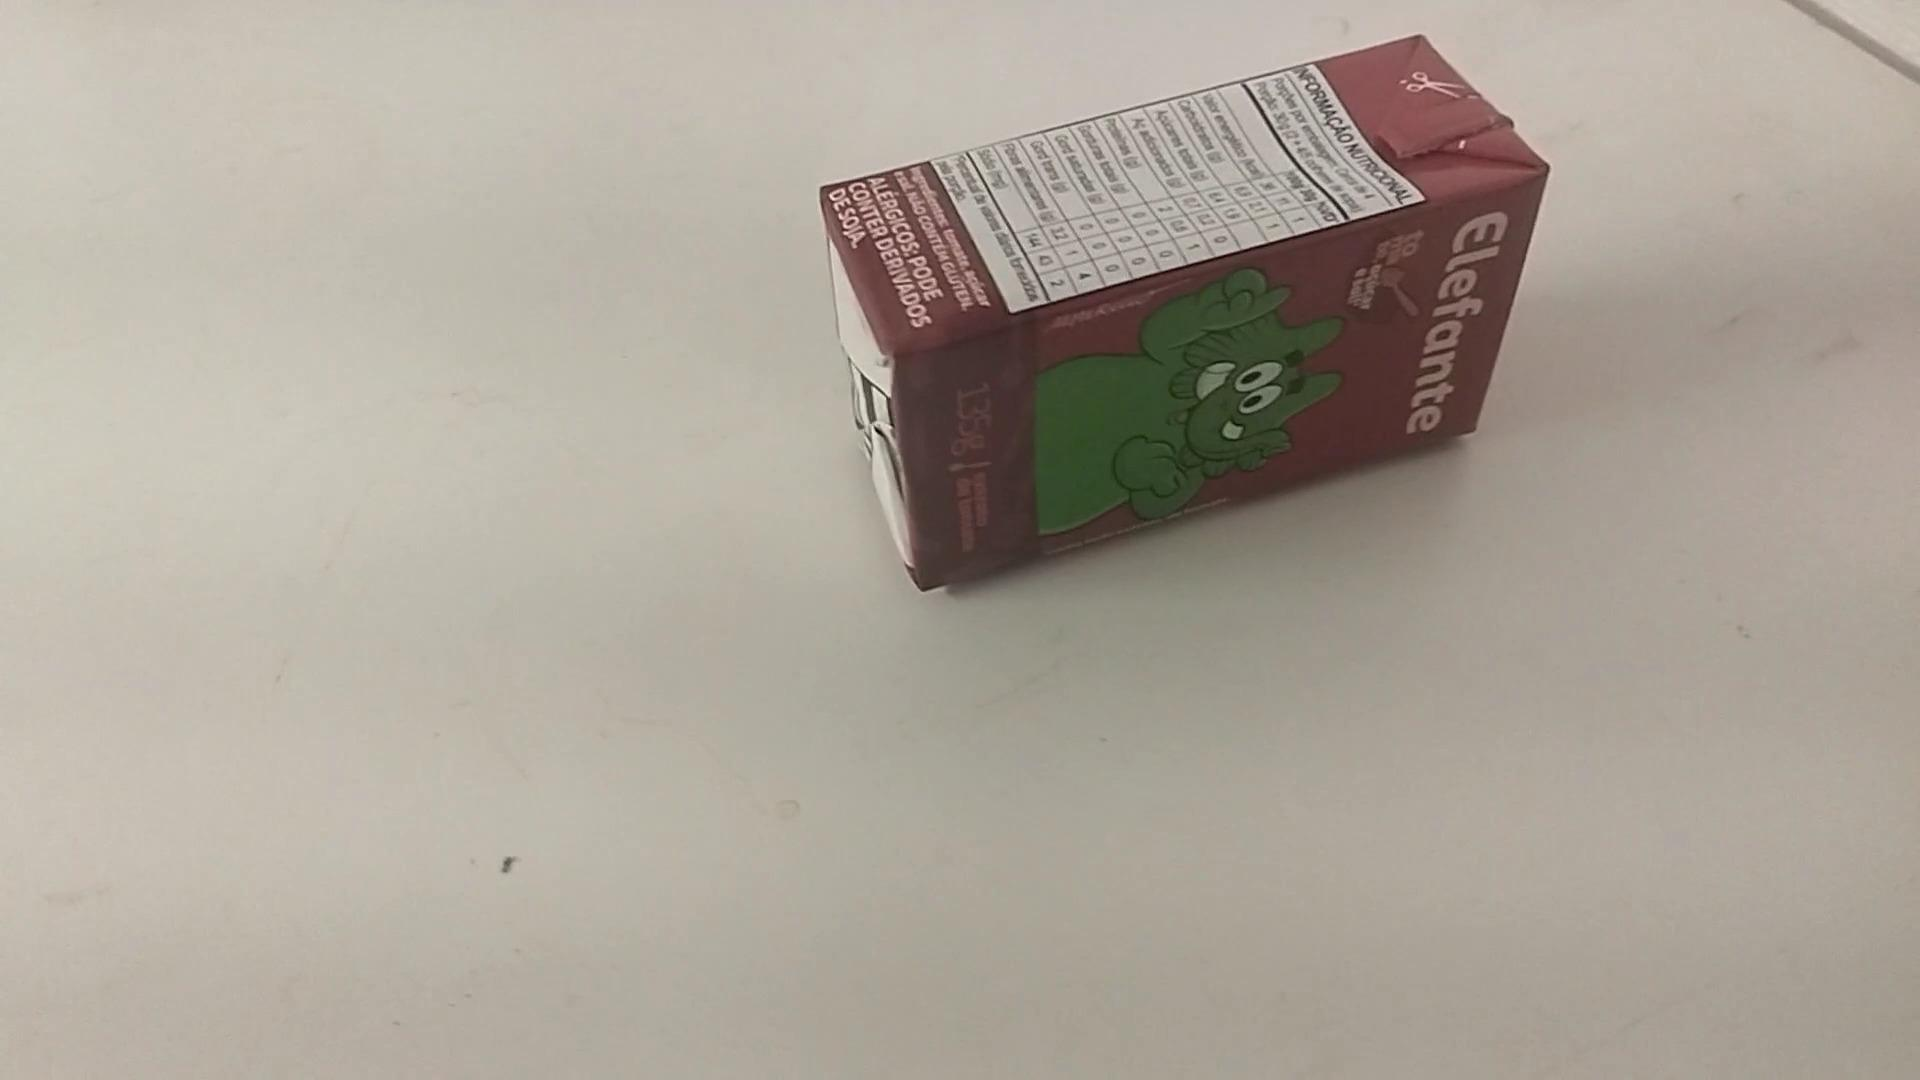tomate: (806, 21, 1569, 613)
